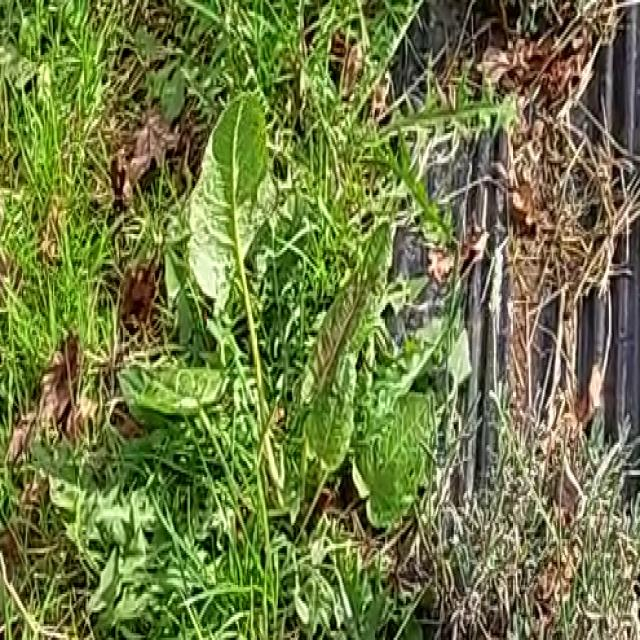organic waste: (104, 96, 433, 555)
